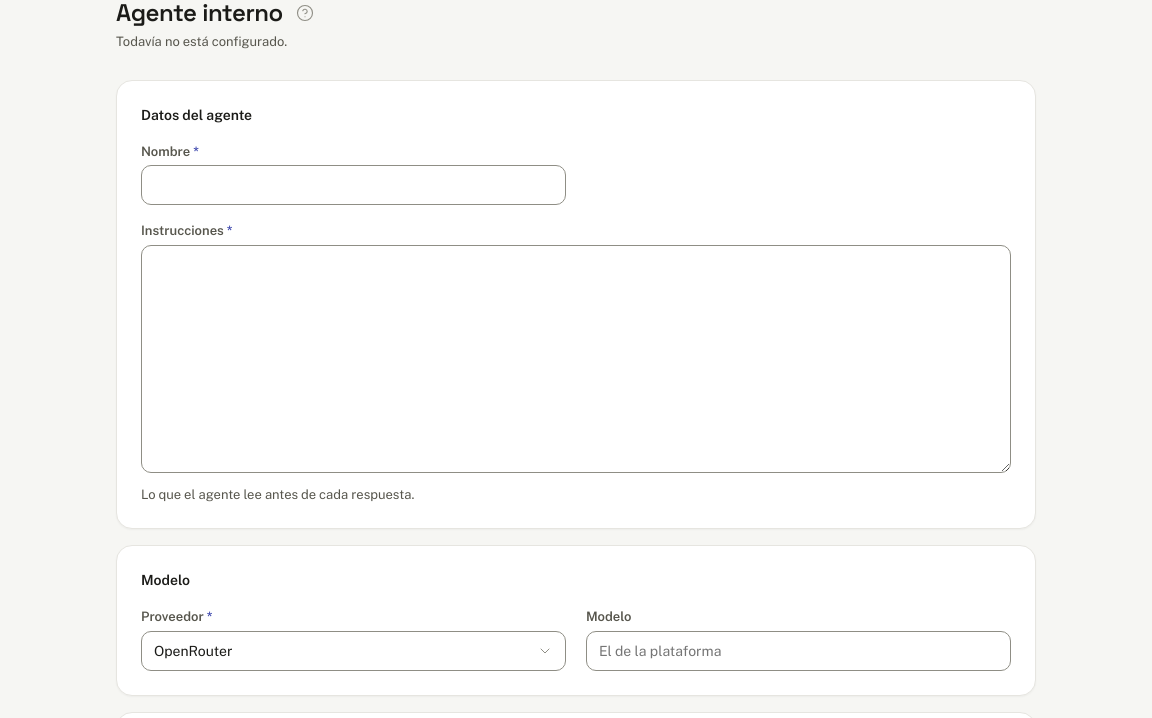
InternalAgentSettingsPage › sin agente (GET → null): formulario vacío que al guardar crea con PUT y refleja lo guardado
expect the text "Todavía no está configurado." is shown: met, box top-left (116, 34), bottom-right (287, 49)
Type "Asistente del equipo" into the field labelled "Nombre" at (354, 185), box top-left (141, 165), bottom-right (566, 205)
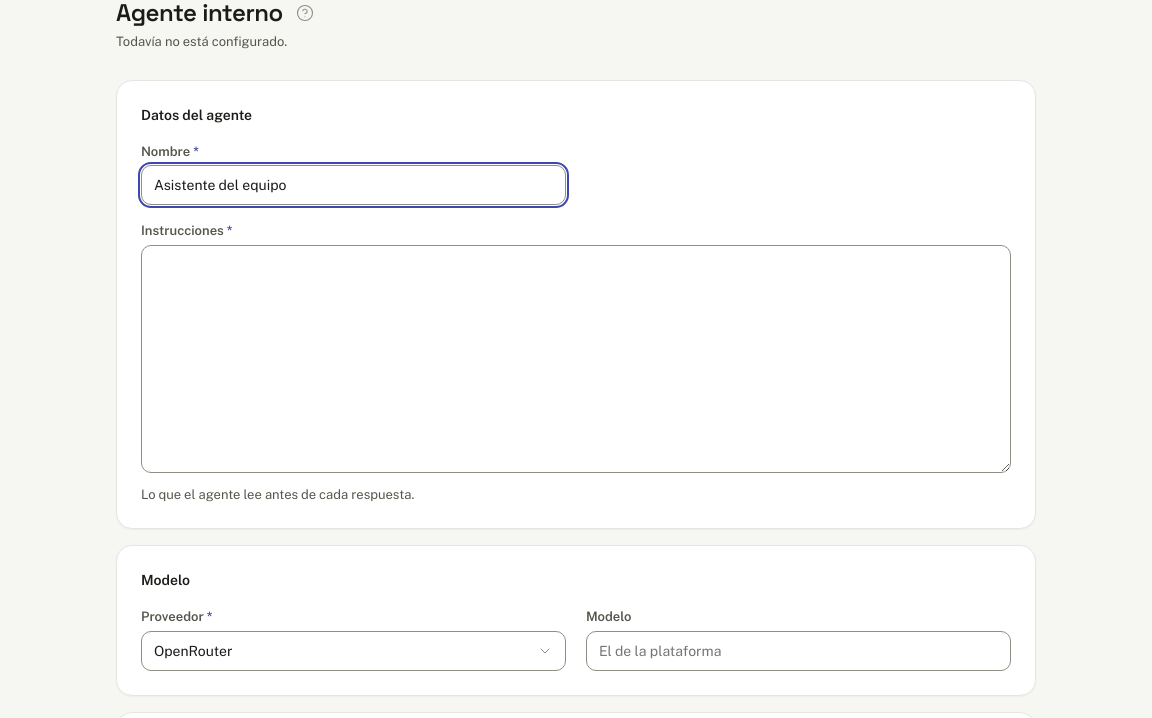
Type "Ayudá al equipo." into the text box labelled "Instrucciones" at (576, 358), box top-left (141, 244), bottom-right (1011, 472)
(page scrolled)
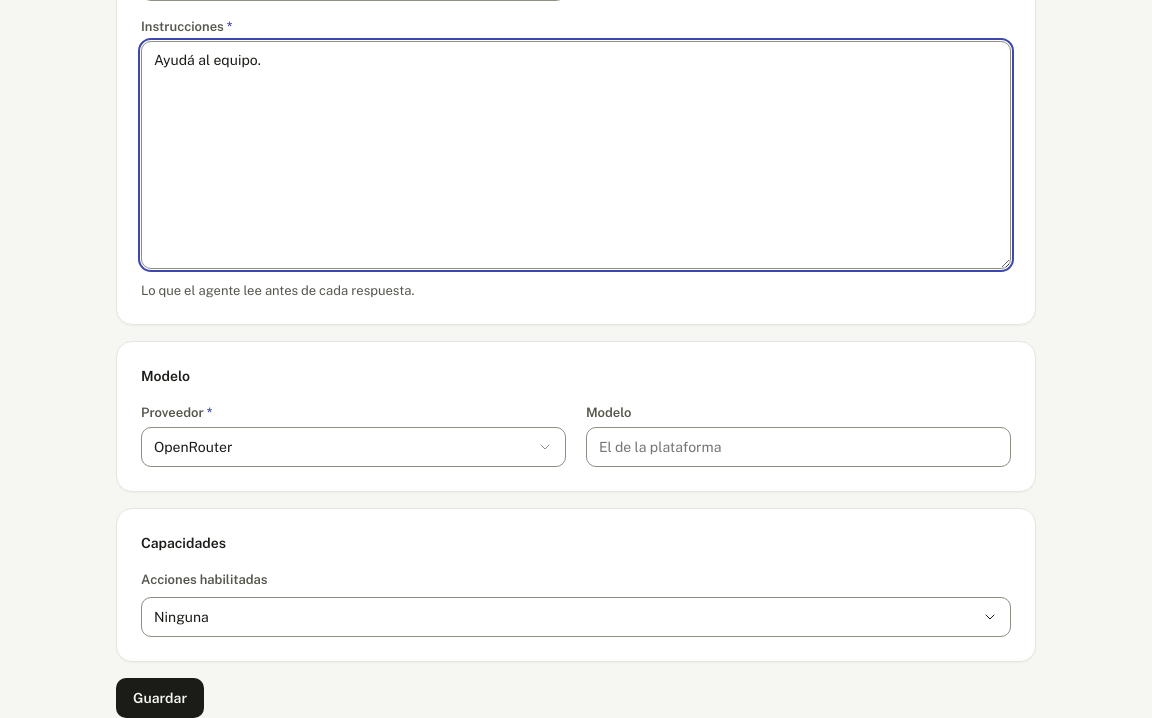
Click the button "Guardar" at (160, 698), box top-left (116, 678), bottom-right (204, 717)
(page scrolled)
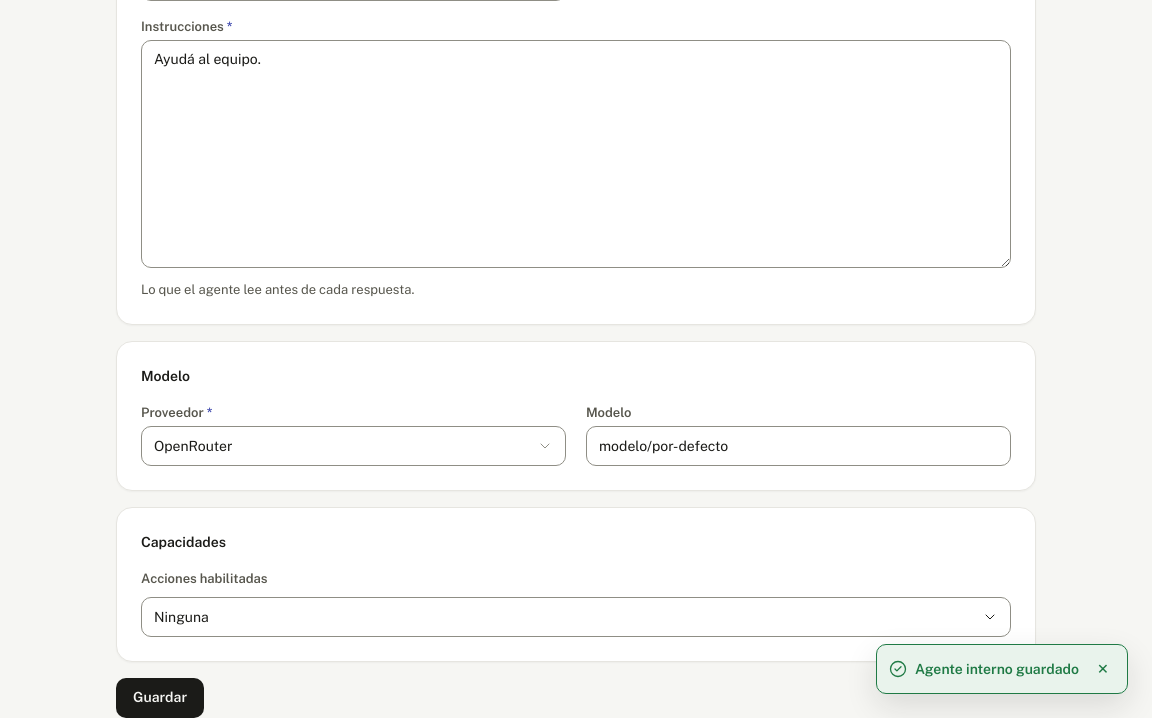
expect the field labelled "Modelo" holds "modelo/por-defecto": met, box top-left (586, 426), bottom-right (1011, 466)
